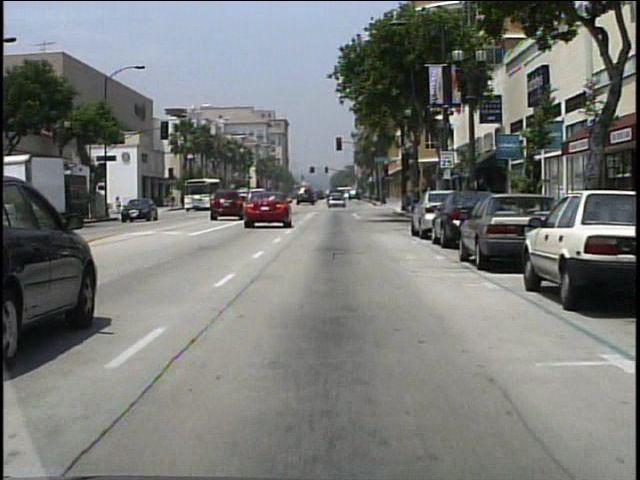person: (115, 196, 124, 217)
